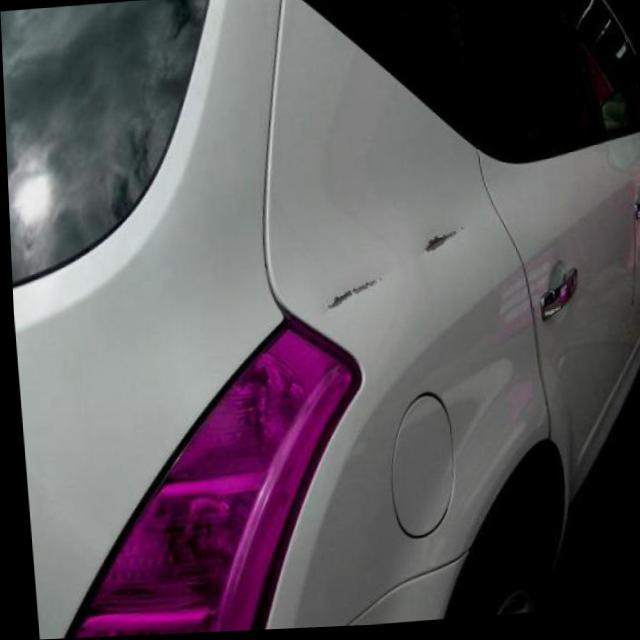Car-Damage: (416, 225, 470, 265), (324, 276, 382, 312)
